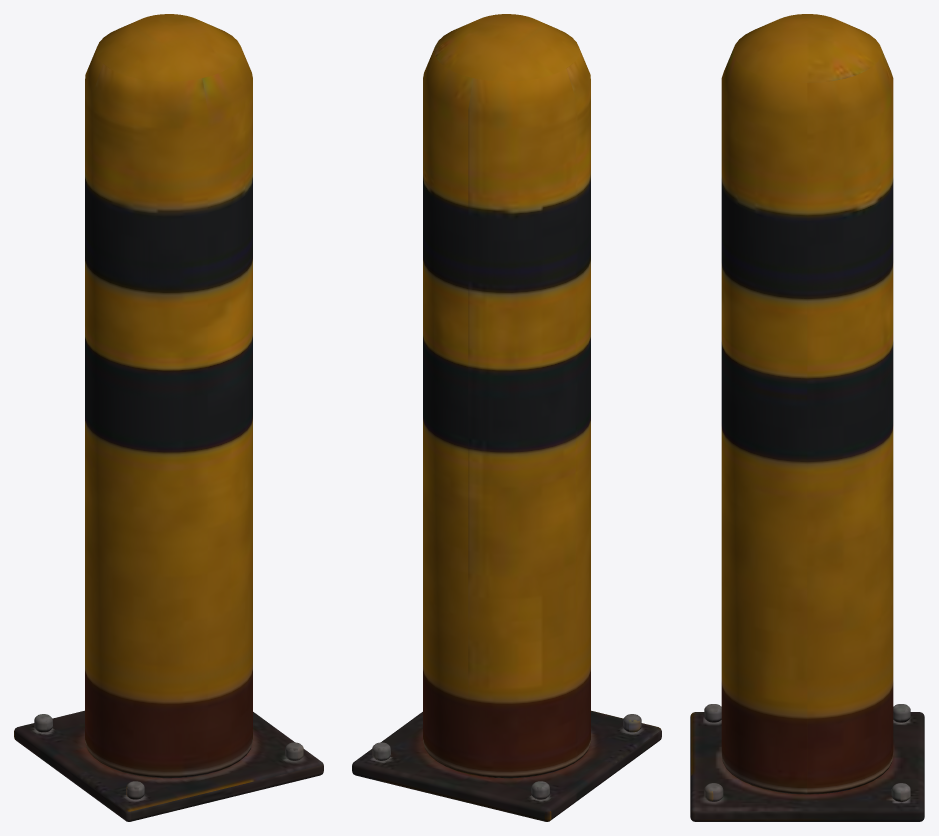
File: bollard.glb
3 views of the same model, side by side, from view 1: azimuth 30°, elevation 25°; view 2: azimuth 150°, elevation 25°; view 3: azimuth 270°, elevation 25° (orthographic). The views are drawn at different scales.
Parts seen in each view (by area): view 1: bollard; view 2: bollard; view 3: bollard.
Part boxes in pixels (x1=…): bollard: x1=14, y1=14, x2=323, y2=821; bollard: x1=352, y1=14, x2=661, y2=821; bollard: x1=690, y1=14, x2=924, y2=821.
Size of the model in its own units: 0.3 by 1.05 by 0.3.
1 material, 1 textured.
